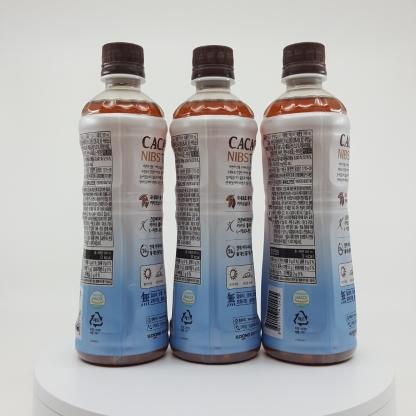------500ML: (260, 42, 357, 363), (74, 42, 169, 365), (169, 45, 261, 363)
